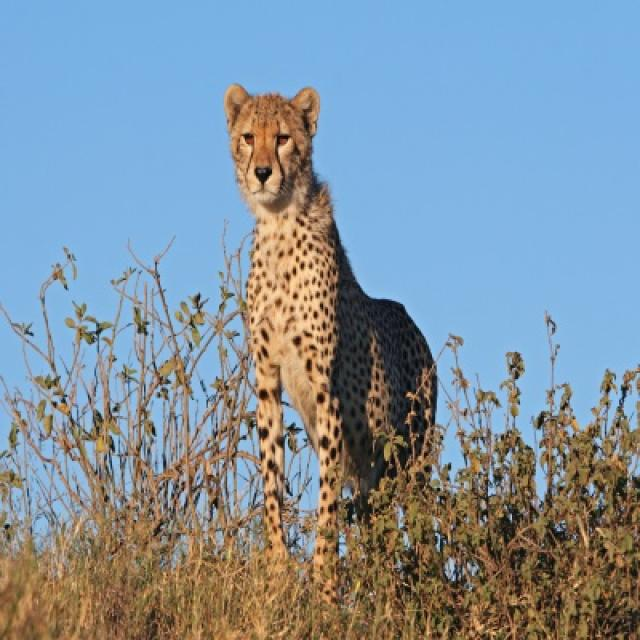Cheetah: (226, 83, 434, 598)
